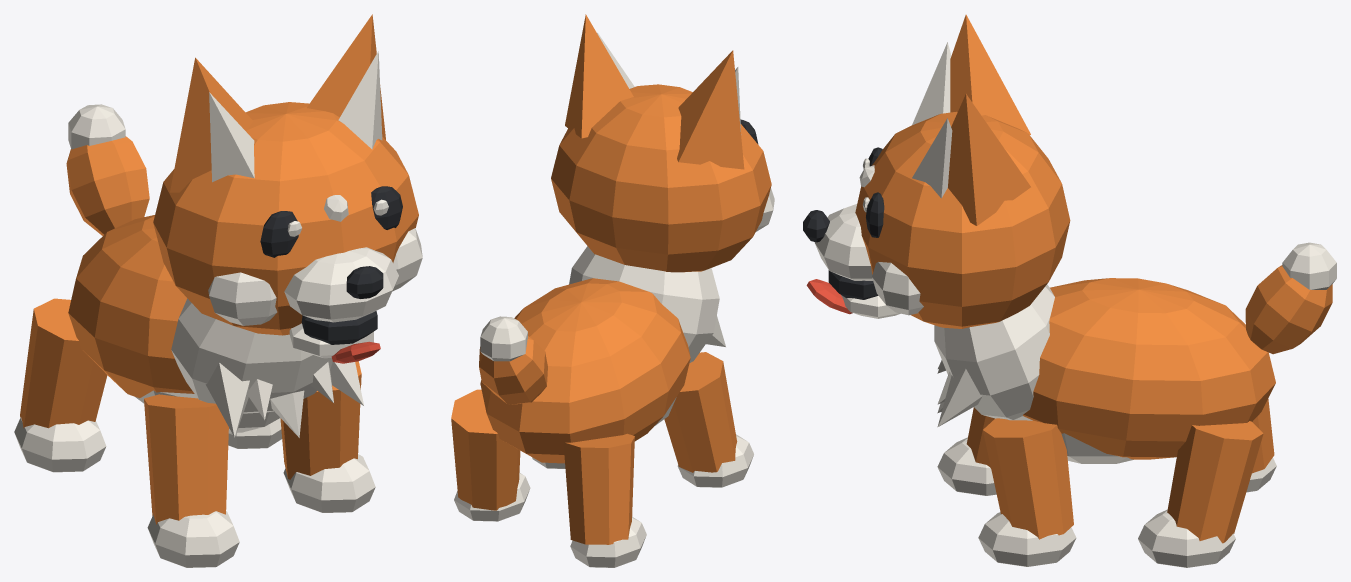
Rendered from chunky-puppy-pet.glb.
3 views of the same model, side by side, from view 1: azimuth 30°, elevation 25°; view 2: azimuth 150°, elevation 25°; view 3: azimuth 270°, elevation 25° (orthographic). The views are drawn at different scales.
Visible parts, largest first — view 1: Puppy; view 2: Puppy; view 3: Puppy.
Part boxes in pixels (x1,y1,x2,y2): Puppy: (14,14,422,567); Puppy: (451,14,774,567); Puppy: (803,14,1336,567).
Size of the model in its own units: 1.24 by 2.5 by 2.61.
